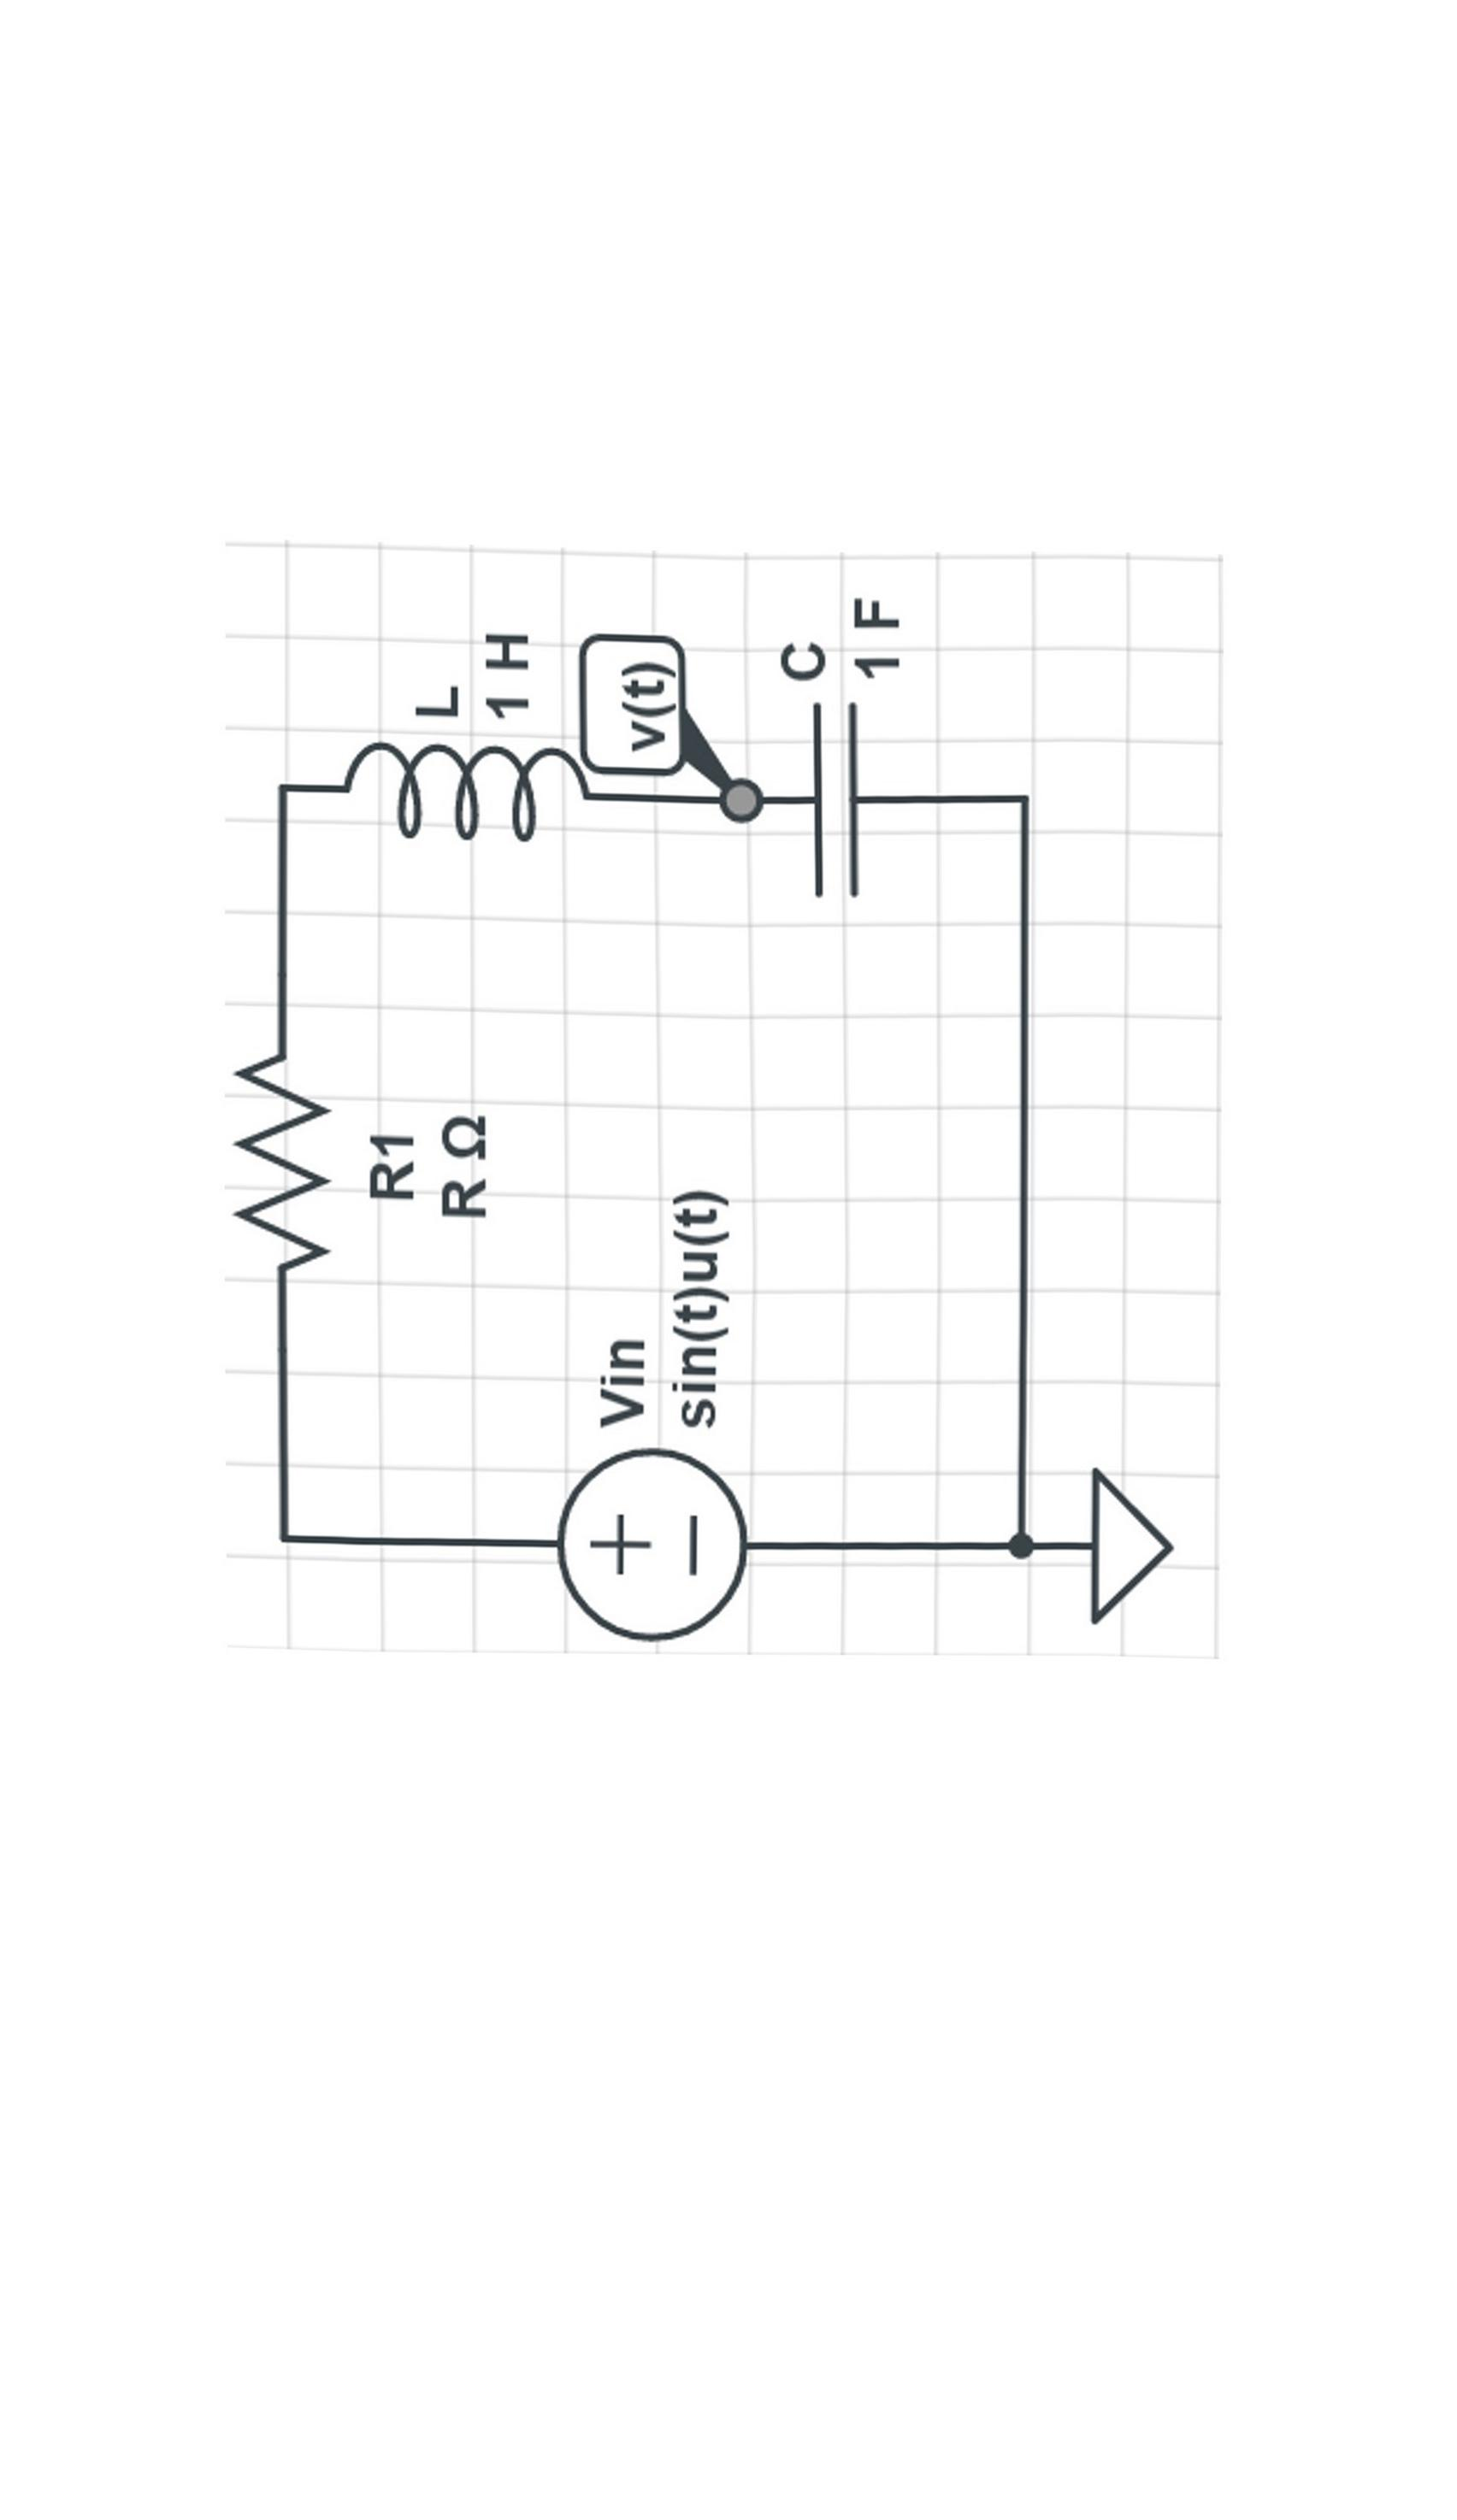Battery: (510, 1406, 803, 1726)
